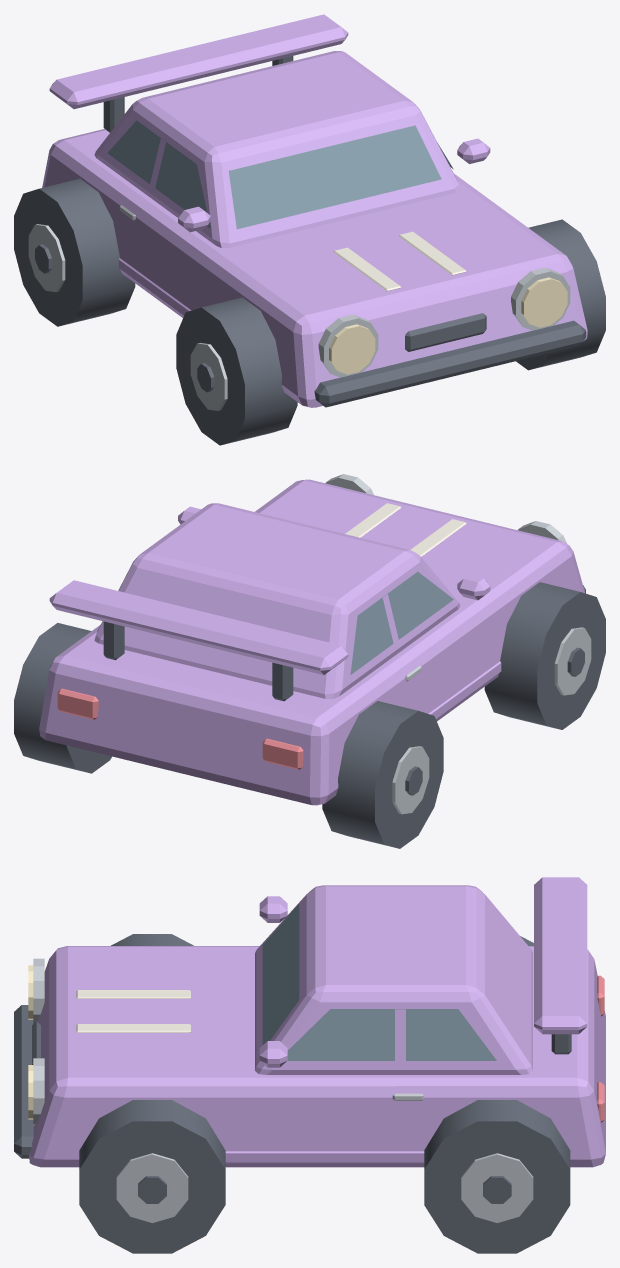
Rendered from street_racer.glb.
The picture shows the model from 3 angles, top to bottom: view 1: azimuth 30°, elevation 25°; view 2: azimuth 150°, elevation 25°; view 3: azimuth 270°, elevation 25°; orthographic projection. The views are drawn at different scales.
Parts seen in each view (by area): view 1: street_racer_purple.001, street_racer_black.001, street_racer_glass.001, street_racer_gray.001, street_racer_yellow, street_racer_white.001; view 2: street_racer_purple.001, street_racer_black.001, street_racer_gray.001, street_racer_glass.001, street_racer_red, street_racer_white.001; view 3: street_racer_purple.001, street_racer_black.001, street_racer_glass.001, street_racer_gray.001, street_racer_white.001, street_racer_yellow, street_racer_red.
Part boxes in pixels (x1,y1,x2,y2): street_racer_purple.001: [42, 14, 587, 407]; street_racer_black.001: [14, 56, 605, 445]; street_racer_glass.001: [107, 120, 453, 229]; street_racer_gray.001: [28, 205, 570, 410]; street_racer_yellow: [329, 277, 567, 374]; street_racer_white.001: [333, 231, 466, 291]; street_racer_purple.001: [39, 479, 584, 805]; street_racer_black.001: [14, 582, 605, 848]; street_racer_gray.001: [325, 474, 591, 814]; street_racer_glass.001: [350, 571, 453, 674]; street_racer_red: [57, 688, 303, 769]; street_racer_white.001: [345, 503, 466, 556]; street_racer_purple.001: [29, 877, 605, 1167]; street_racer_black.001: [14, 934, 571, 1253]; street_racer_glass.001: [262, 903, 496, 1060]; street_racer_gray.001: [33, 958, 533, 1222]; street_racer_white.001: [76, 990, 190, 1032]; street_racer_yellow: [28, 965, 33, 1119]; street_racer_red: [597, 975, 604, 1122].
Size of the model in its own units: 4.12 by 2.23 by 5.32.
